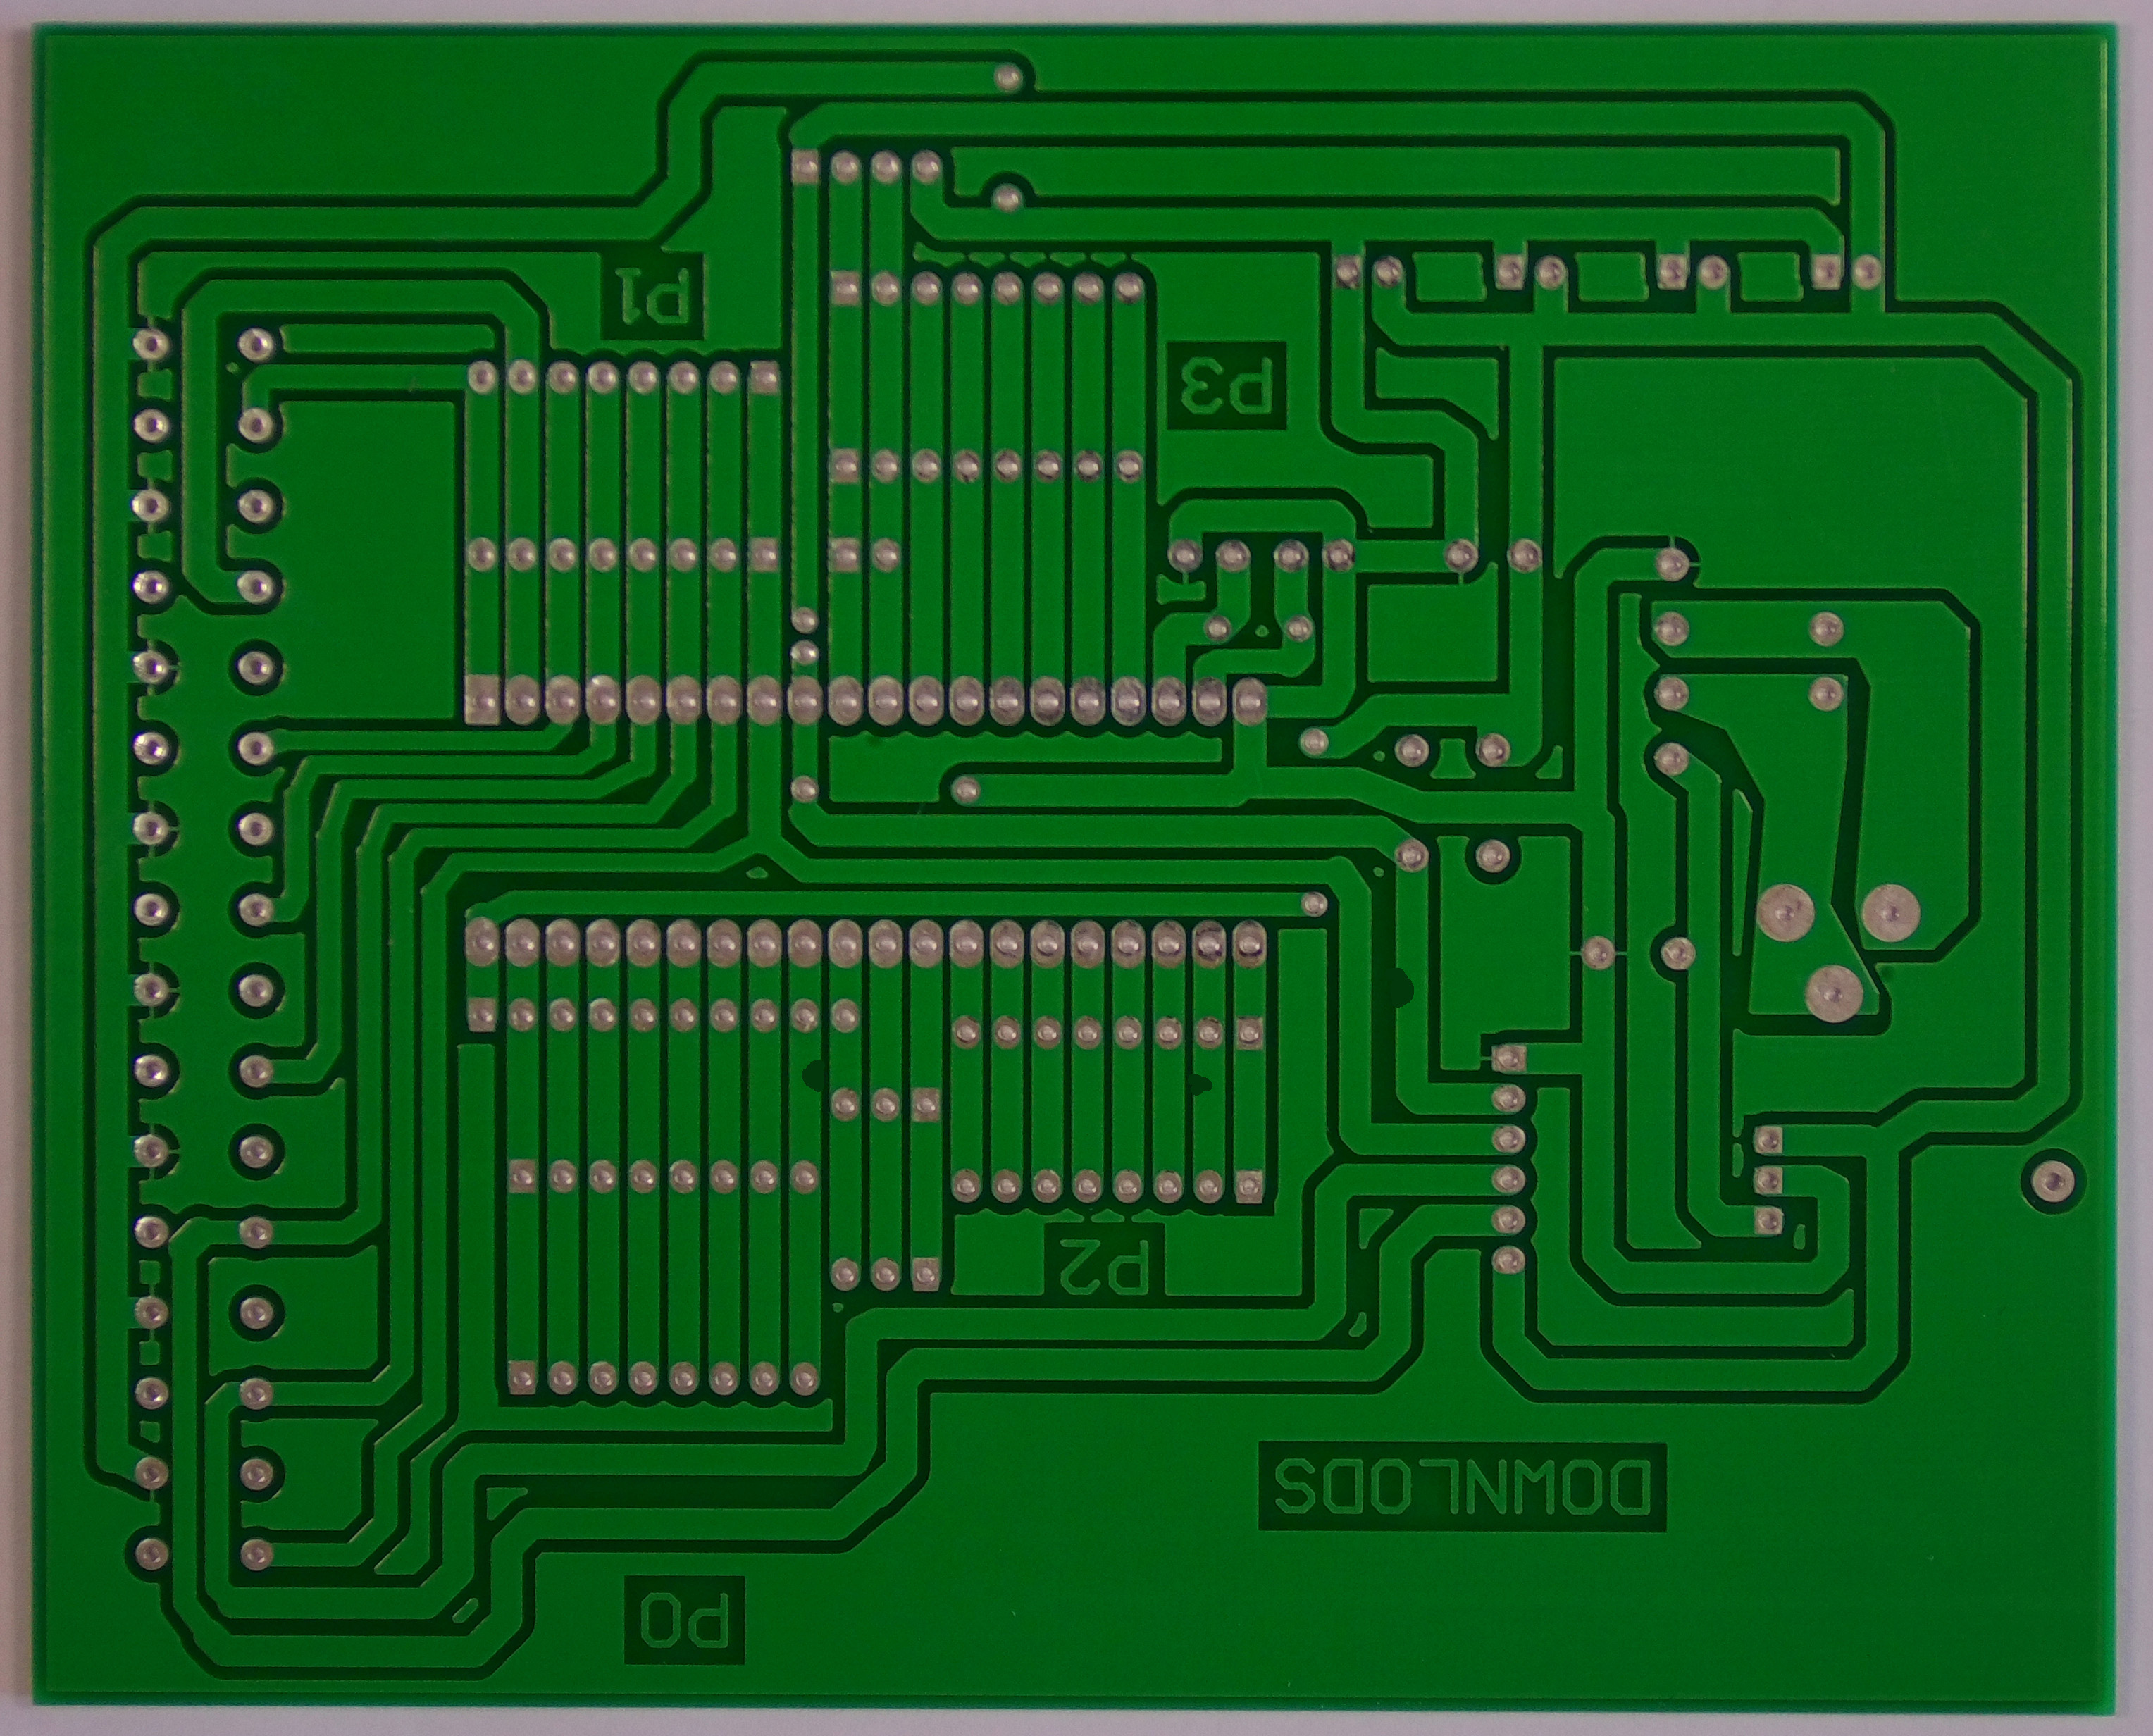mouse_bite: (1380, 953, 1427, 1022), (793, 1053, 833, 1100), (1179, 1062, 1216, 1108)
